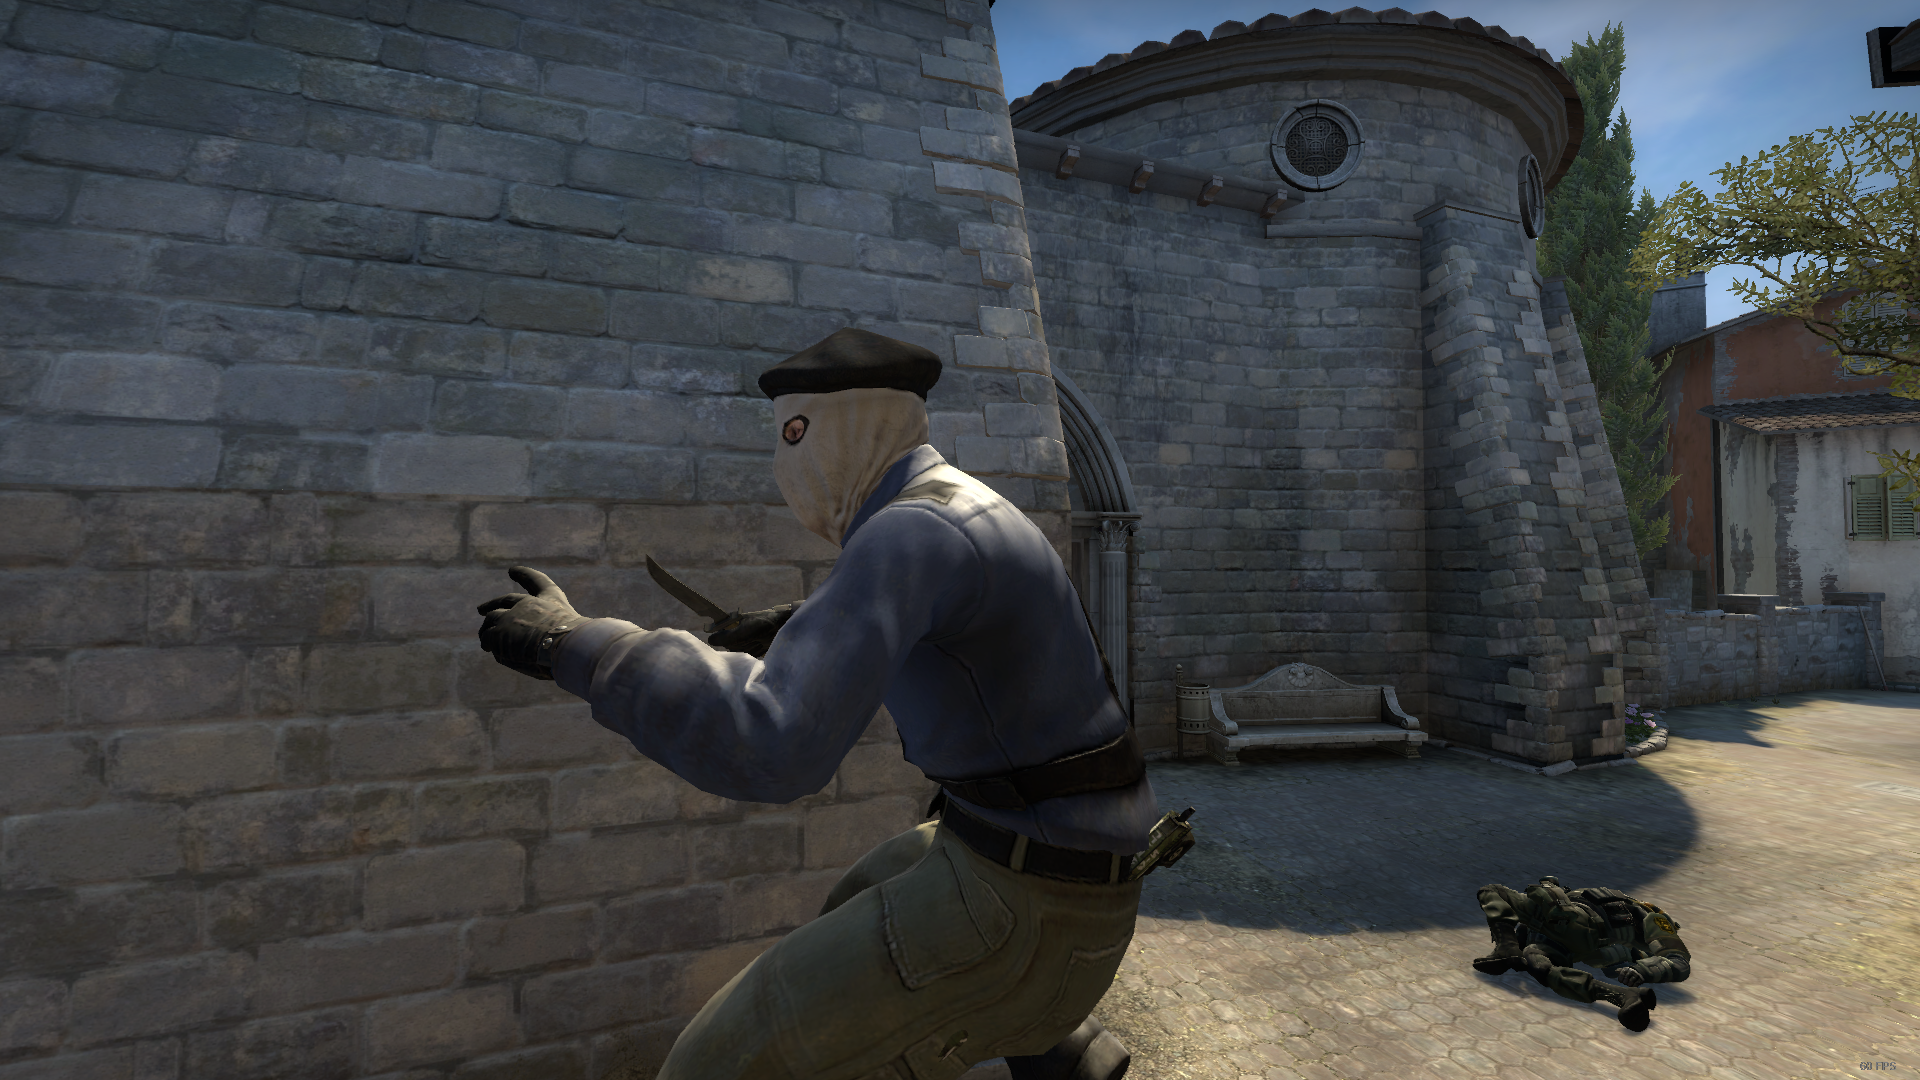t: (433, 291, 1288, 1080)
